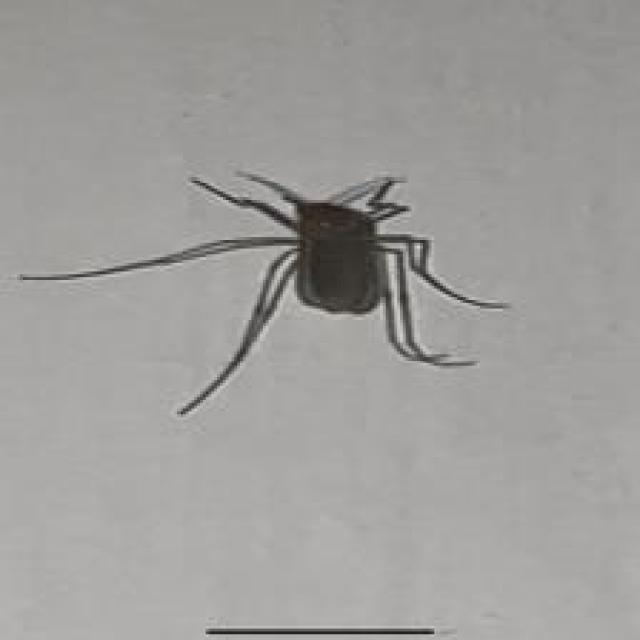Culex: (16, 167, 510, 419)
